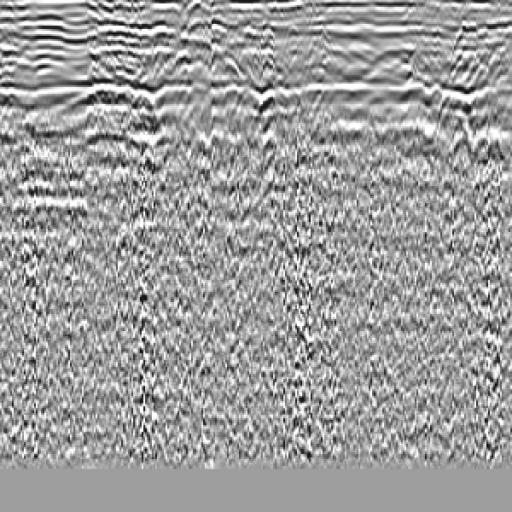non-metallic: (243, 74, 295, 287)
